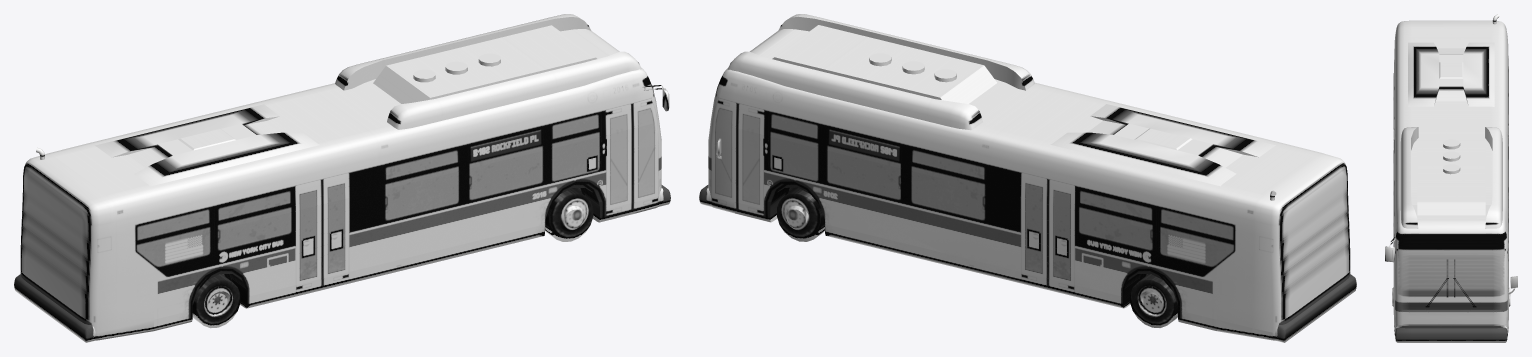
File: sample.glb
The picture shows the model from 3 angles, left to right: view 1: azimuth 30°, elevation 25°; view 2: azimuth 150°, elevation 25°; view 3: azimuth 270°, elevation 25°; orthographic projection. The views are drawn at different scales.
Parts seen in each view (by area): view 1: Cylinder.000; view 2: Cylinder.000; view 3: Cylinder.000.
Part boxes in pixels (bbox=[...]): Cylinder.000: bbox=[14, 14, 670, 342]; Cylinder.000: bbox=[699, 14, 1356, 342]; Cylinder.000: bbox=[1385, 14, 1517, 342].
Size of the model in its own units: 7.78 by 2.14 by 1.97.
Materials: 1 (1 with a texture image).
